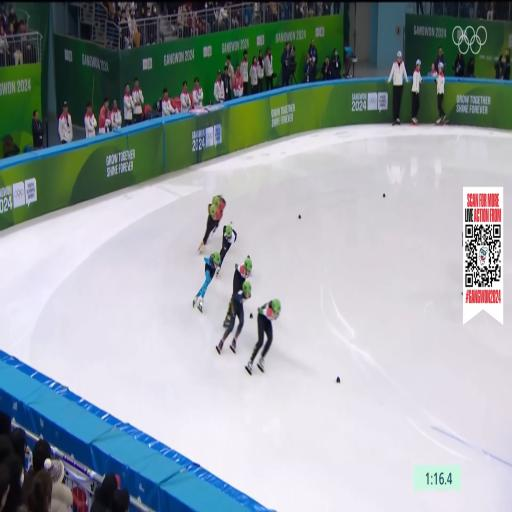Skater: (245, 299, 281, 375), (216, 281, 251, 354), (193, 252, 220, 312), (199, 196, 225, 253), (217, 223, 236, 274), (233, 256, 252, 293)
